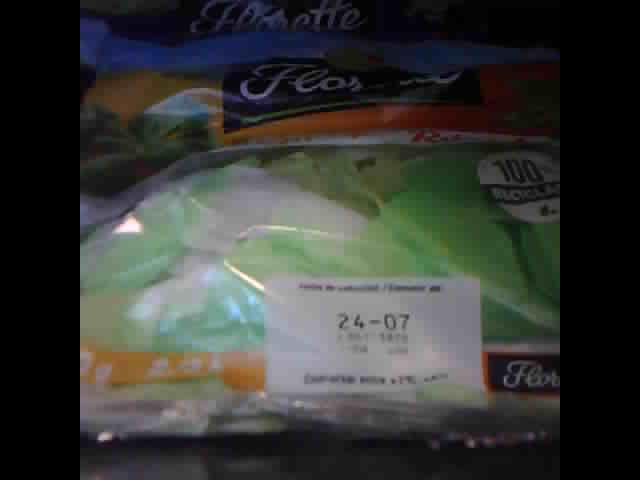florette: (82, 30, 566, 446), (82, 2, 389, 40)
